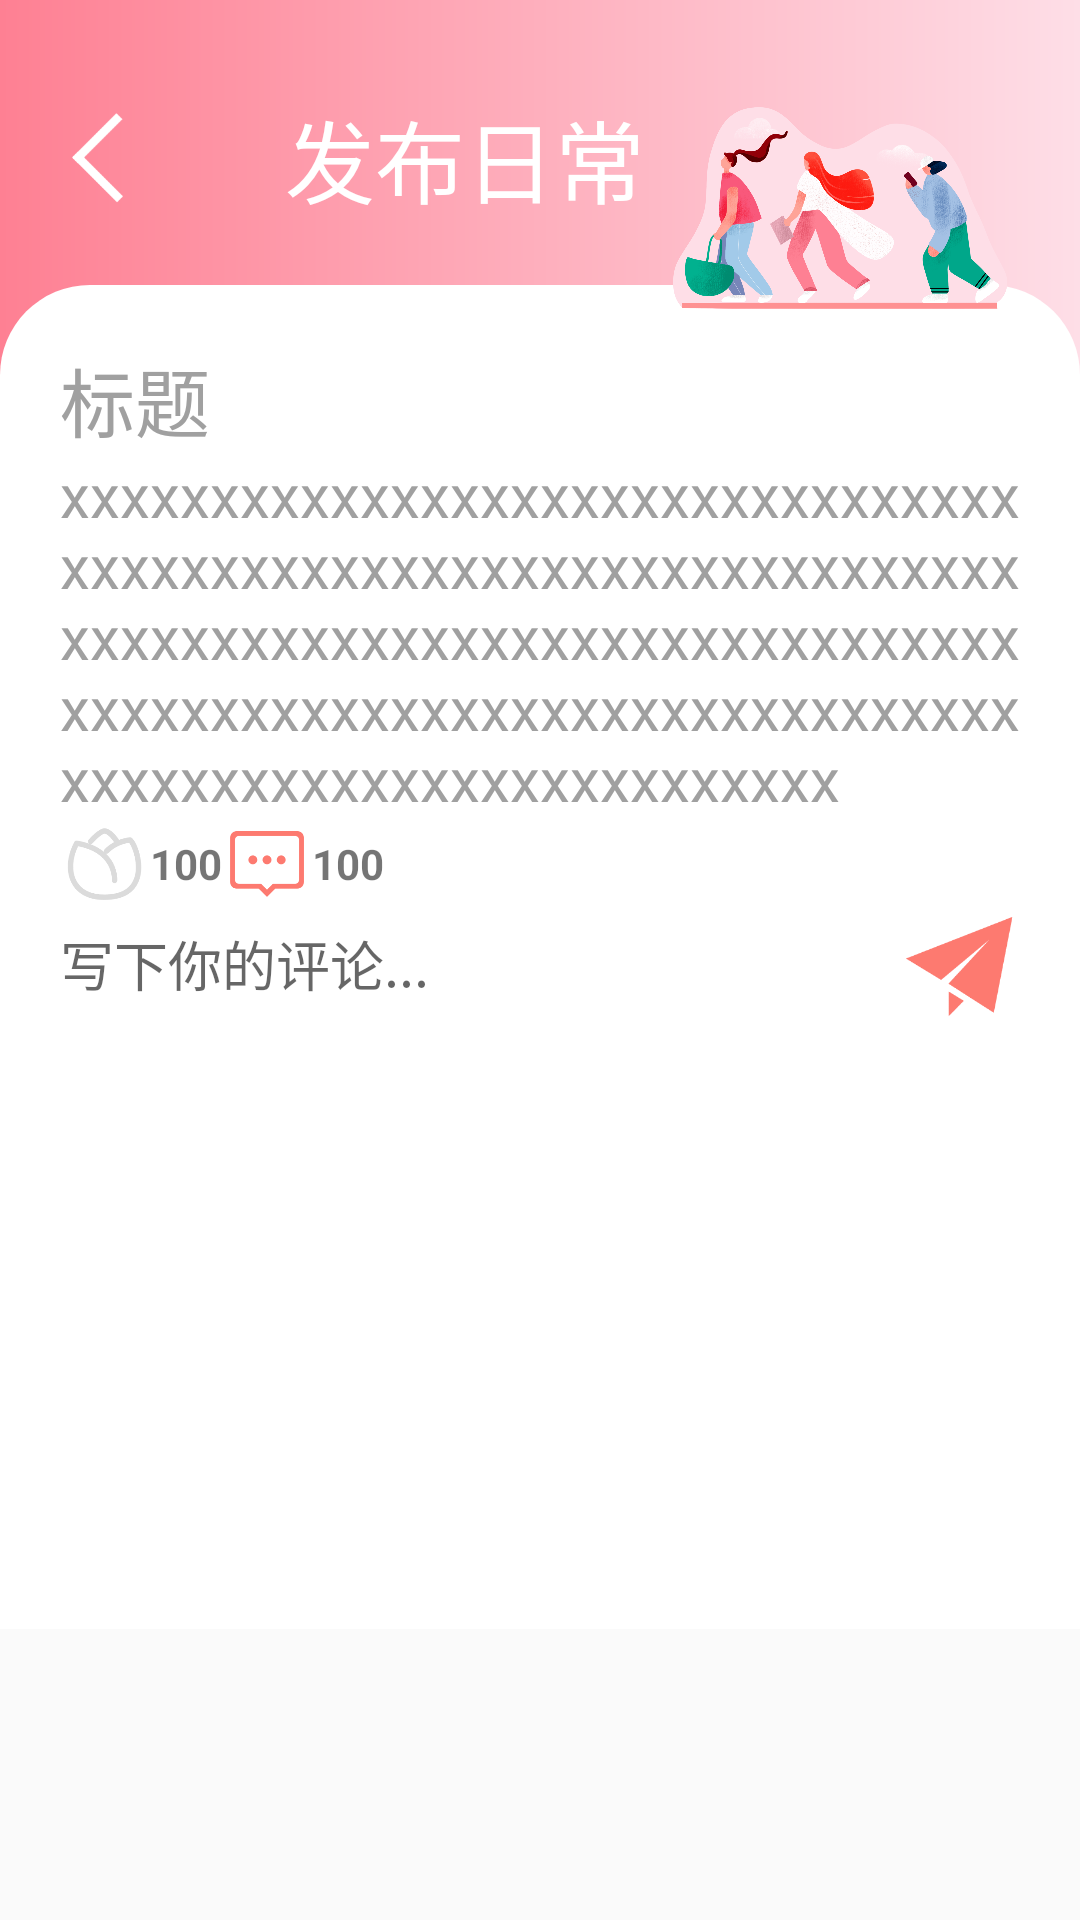

Screen size 1080x1920. Icon name, then its center in pixels as [x,y]:
back: [97,157]
comment: [267,864]
pic daily: [840,210]
send: [959,966]
